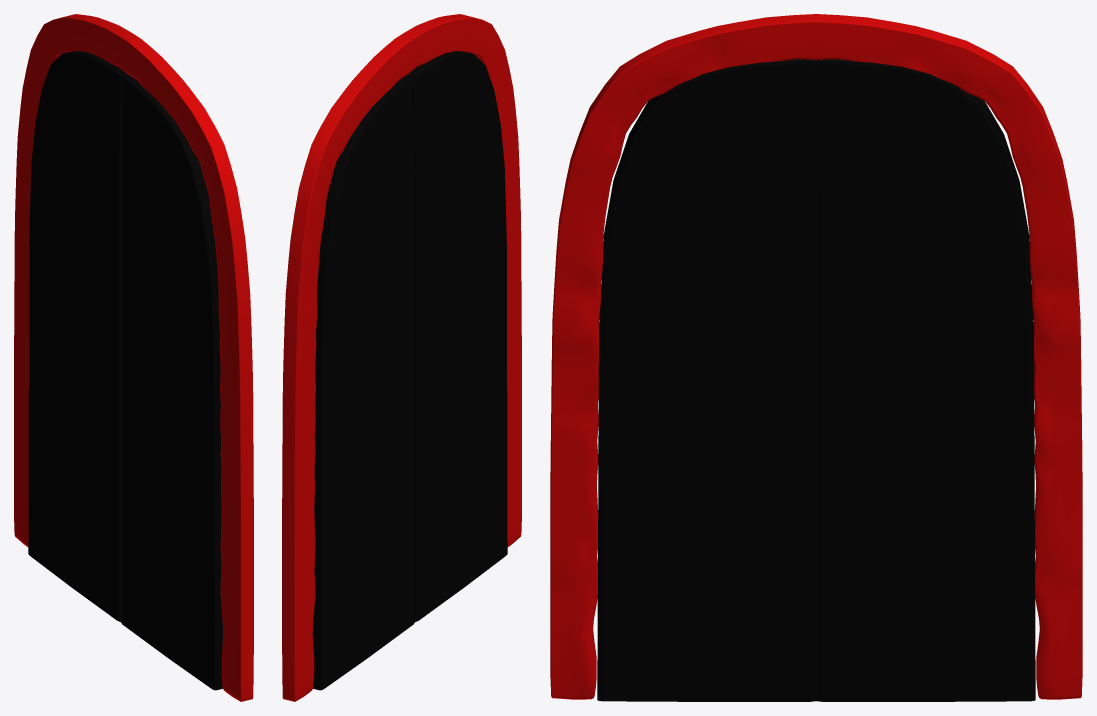
File: RoundDoorGRP.fbx
The picture shows the model from 3 angles, left to right: view 1: azimuth 30°, elevation 25°; view 2: azimuth 150°, elevation 25°; view 3: azimuth 270°, elevation 25°; orthographic projection. The views are drawn at different scales.
Parts seen in each view (by area): view 1: RoundDoorGRP_low; view 2: RoundDoorGRP_low; view 3: RoundDoorGRP_low.
Boxes of the visible parts, left/top/right/bottom form: RoundDoorGRP_low: left=14, top=14, right=253, bottom=701; RoundDoorGRP_low: left=282, top=14, right=521, bottom=701; RoundDoorGRP_low: left=550, top=14, right=1082, bottom=701.
Bounding box in the file's own units: 0.00281 × 0.0604 × 0.0429.
